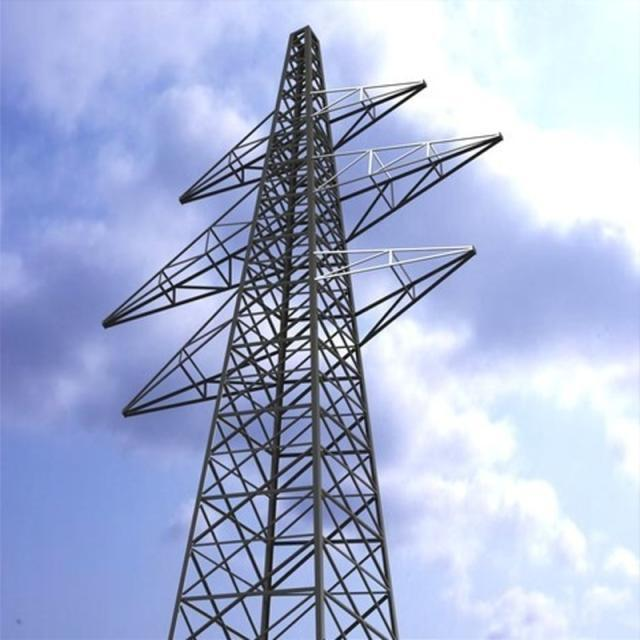non-critical vegetation: (148, 19, 474, 634)
